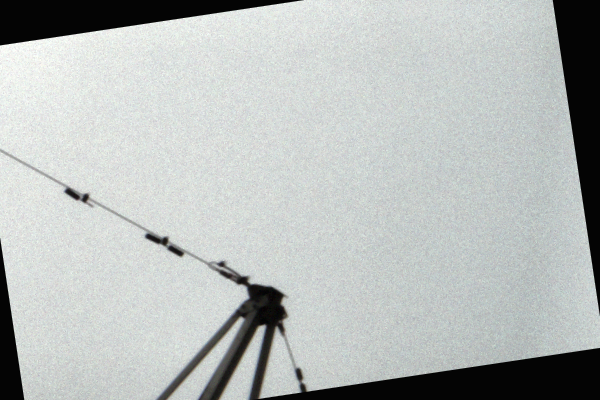damper: (143, 231, 185, 258)
damper_defect: (63, 187, 96, 209)
